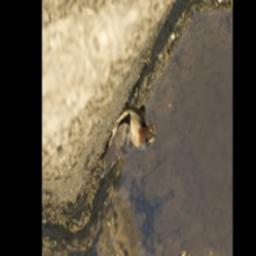Swallow: (91, 91, 160, 184)
